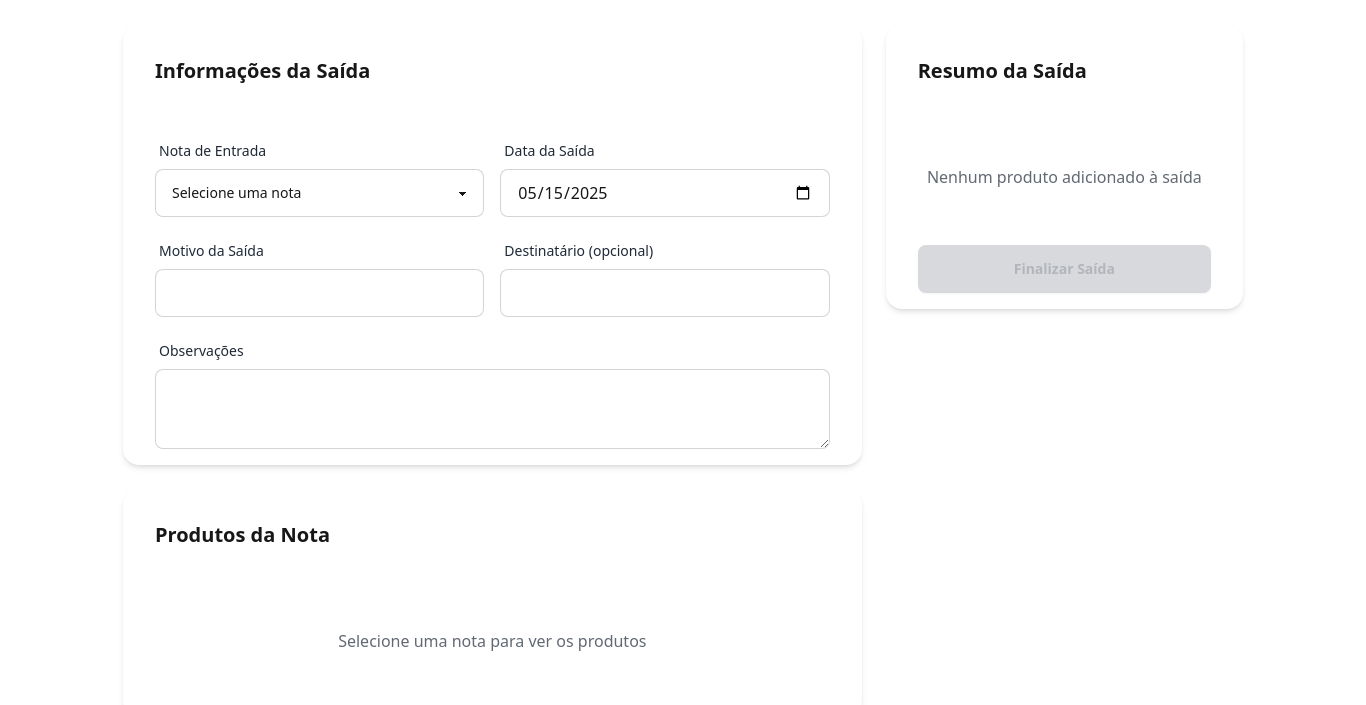
Test: Componente SaidaEstoque › Interação com Campos do Formulário › Deve atualizar o estado ao selecionar uma nota e mostrar seus produtos
The width and height of the screenshot is (1366, 705).
// Seleciona uma nota no dropdown
Step 1. Select "001 - Fornecedor Teste" in the dropdown labelled "Nota de Entrada" → (320, 193), box [155, 169, 484, 217]
(page scrolled)
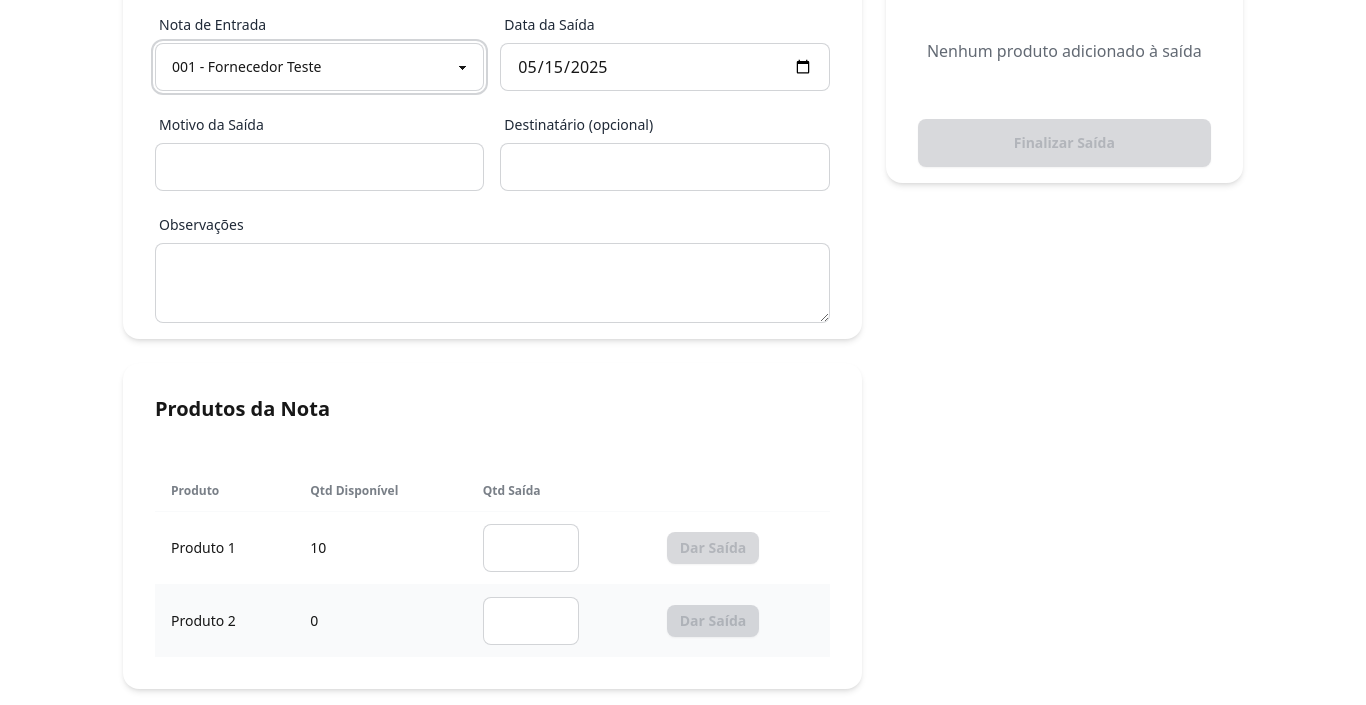
Result: the text "Produto 1" is shown at [155, 512, 294, 584]
Result: the text "Selecione uma nota para ver os produtos" is gone
